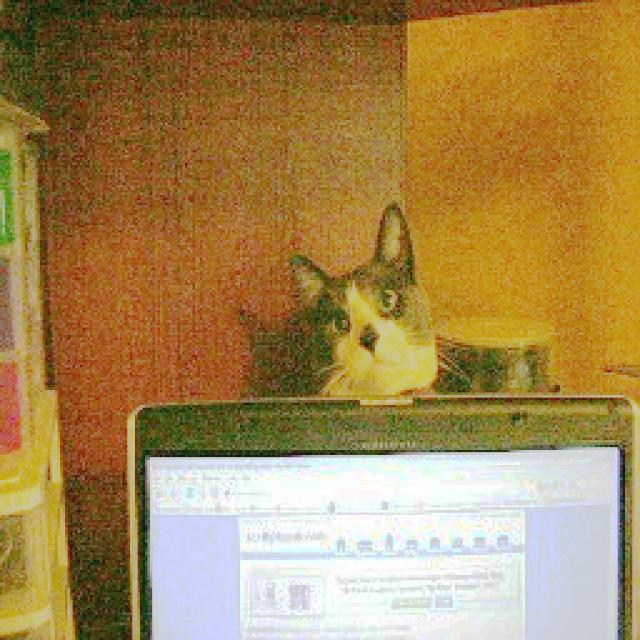cat: (234, 199, 447, 394)
